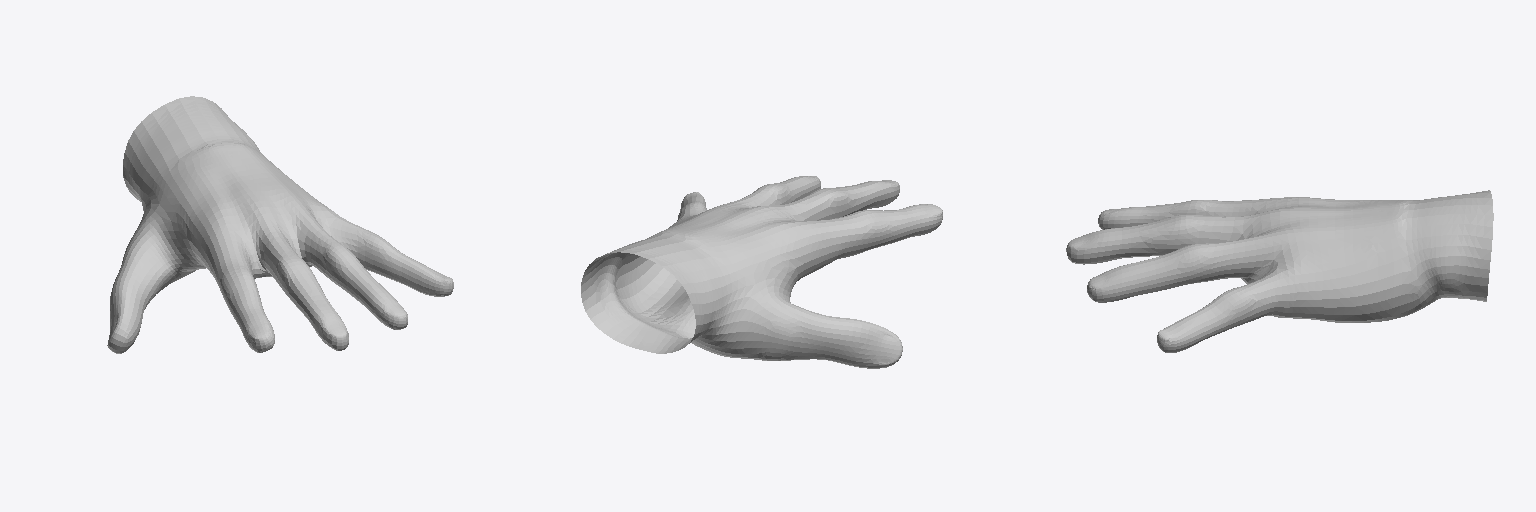
Rendered from handy.obj.
The picture shows the model from 3 angles: view 1: azimuth 30°, elevation 25°; view 2: azimuth 150°, elevation 25°; view 3: azimuth 270°, elevation 25°; orthographic projection.
Visible parts, largest first — view 1: Hand:Geo Hand:polySurface2 Hand:polySurface1; view 2: Hand:Geo Hand:polySurface2 Hand:polySurface1; view 3: Hand:Geo Hand:polySurface2 Hand:polySurface1.
Boxes of the visible parts, box(x1,y1,x2,y2) form: Hand:Geo Hand:polySurface2 Hand:polySurface1: box(107, 96, 453, 353); Hand:Geo Hand:polySurface2 Hand:polySurface1: box(581, 176, 942, 368); Hand:Geo Hand:polySurface2 Hand:polySurface1: box(1066, 190, 1493, 352).
Size of the model in its own units: 0.5793 by 0.2873 by 0.7645.